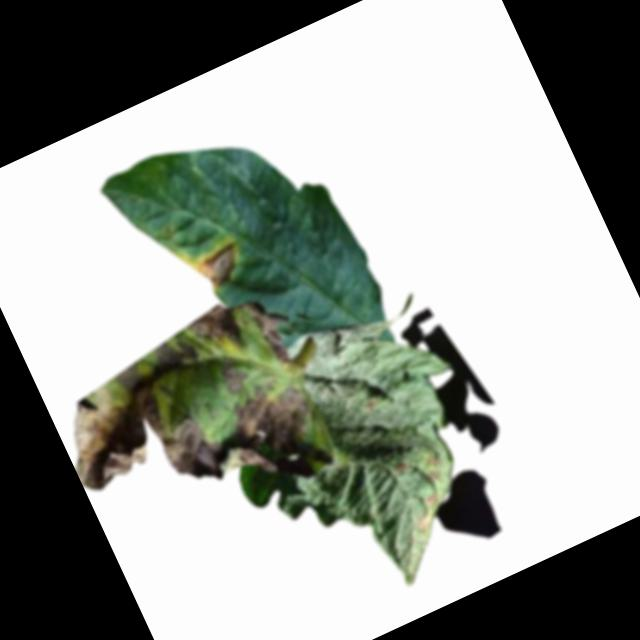Early_blight: (46, 308, 326, 552), (181, 294, 250, 367), (244, 296, 295, 375), (190, 240, 250, 297), (142, 329, 203, 385), (391, 461, 411, 481), (426, 454, 443, 471), (423, 492, 441, 508), (427, 470, 442, 483)
